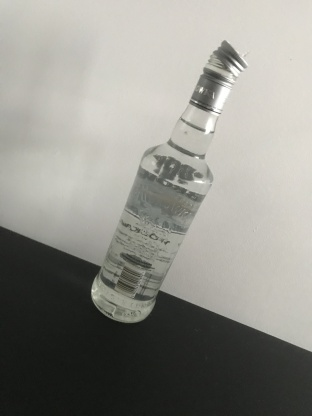nakretka: (187, 37, 250, 118)
